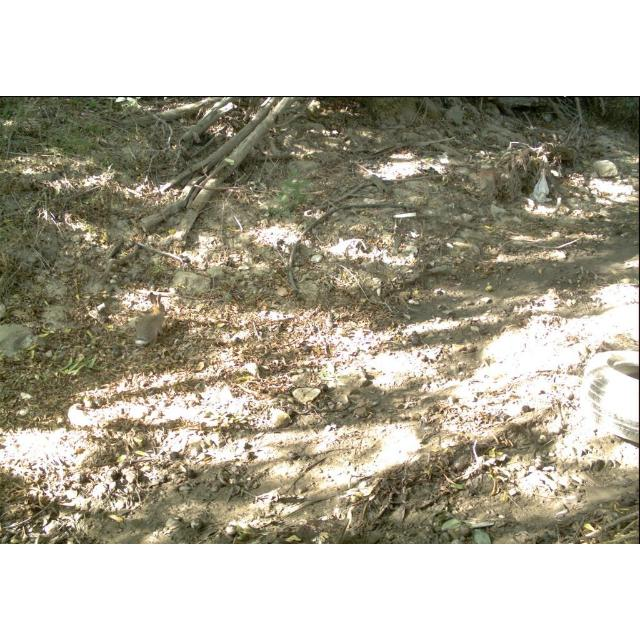animals: (130, 290, 172, 348)
